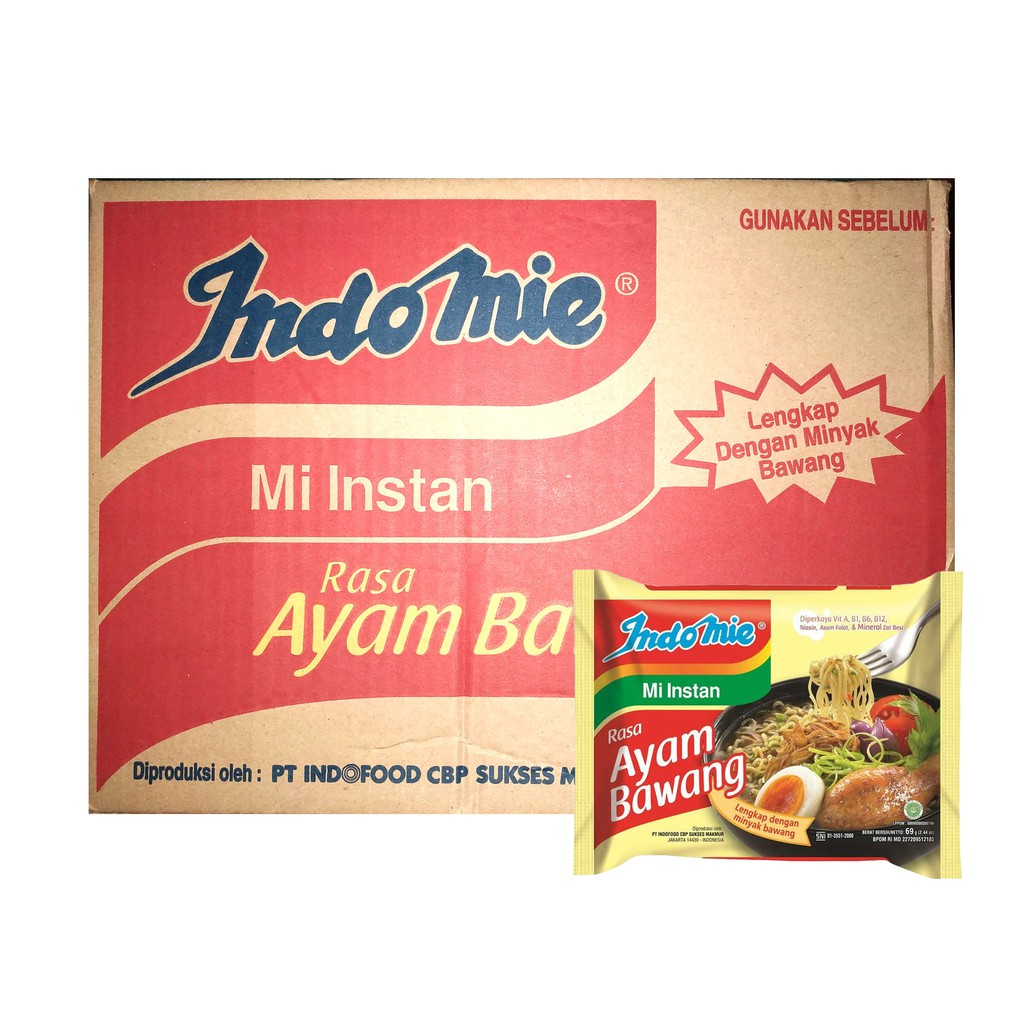indomie ayam bawang: (563, 533, 948, 911)
